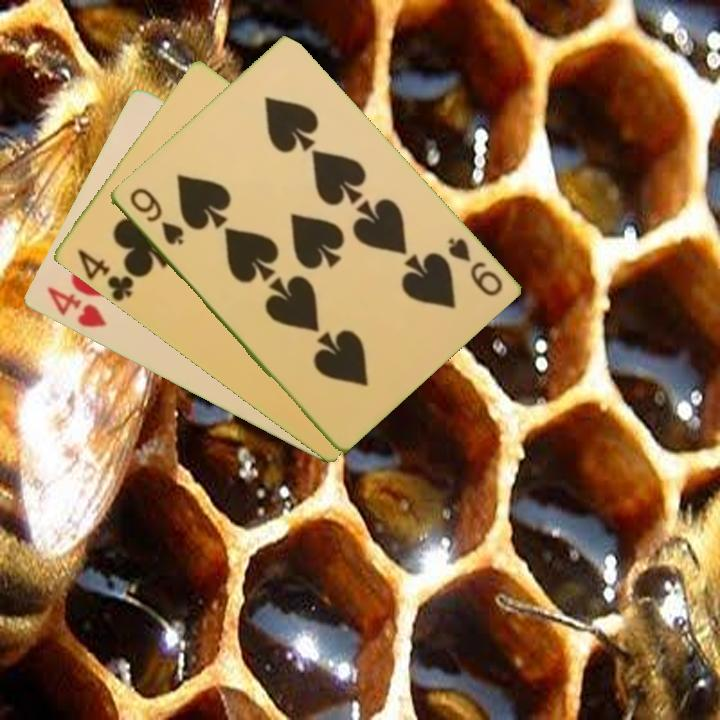4c: (73, 245, 136, 304)
4h: (42, 283, 109, 331)
9s: (443, 234, 505, 299), (125, 184, 187, 248)
